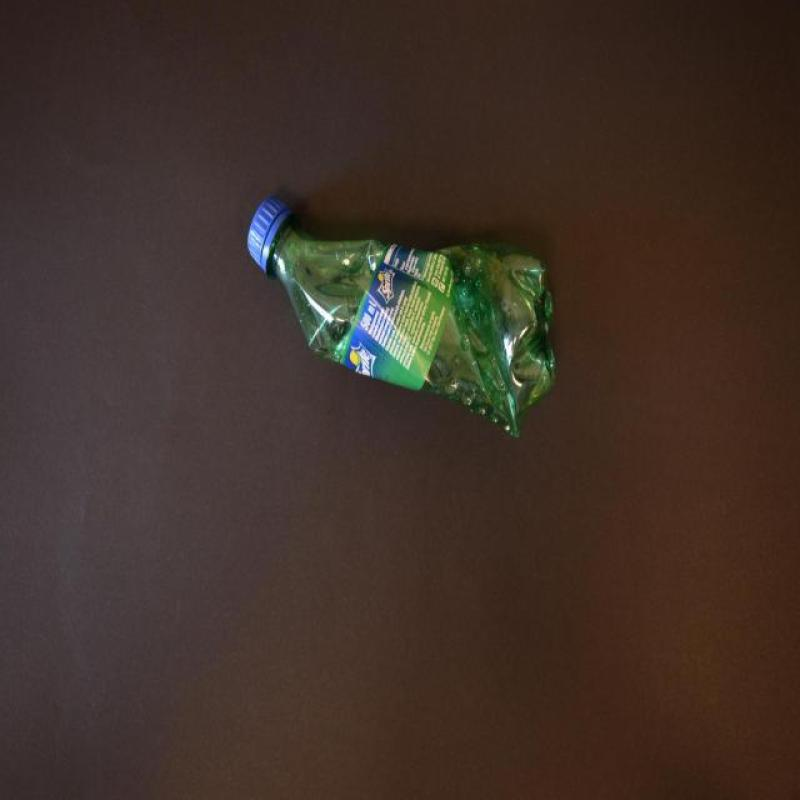botella: (246, 195, 557, 439)
